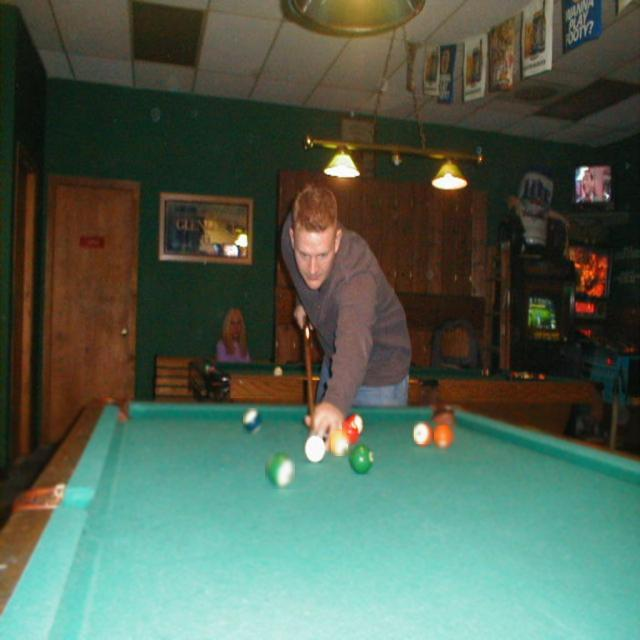Ball: (265, 453, 295, 489), (351, 445, 373, 474), (434, 426, 455, 452), (305, 436, 325, 463), (243, 408, 263, 434), (414, 421, 434, 444), (331, 431, 348, 456), (347, 415, 365, 435), (342, 422, 358, 444)
Billiard table: (0, 398, 640, 640)
